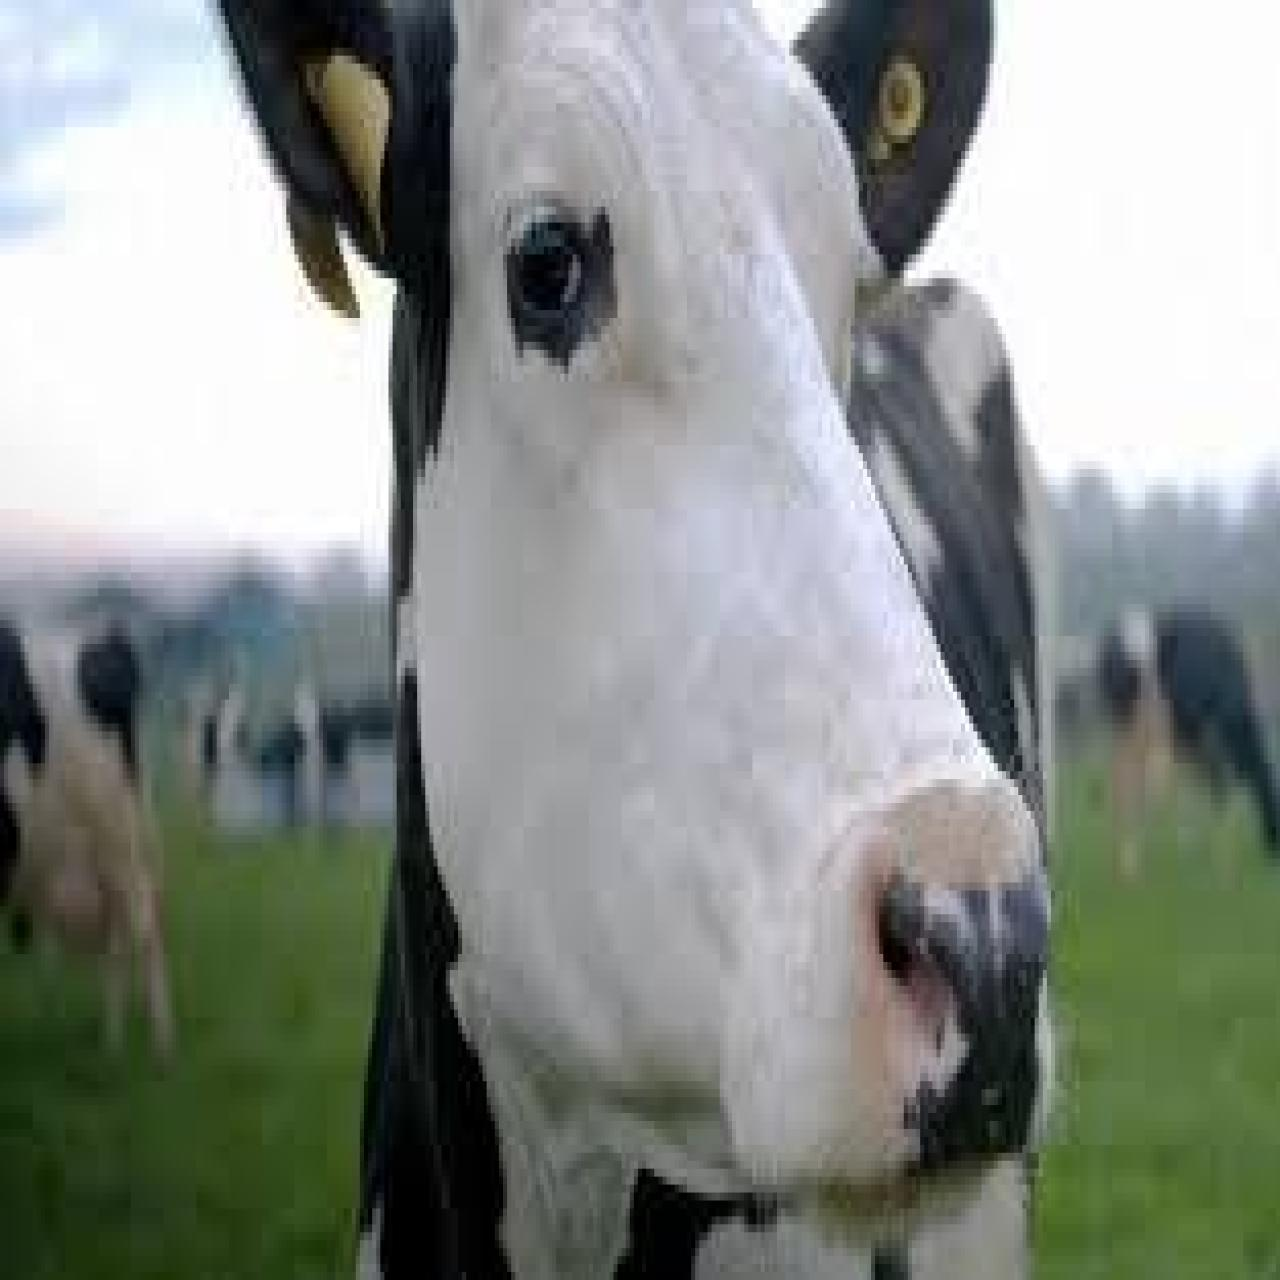cow: (213, 0, 1055, 1280), (0, 616, 180, 1069), (1104, 604, 1280, 867)
